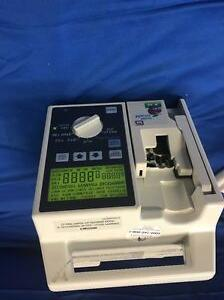plumxl1: (30, 96, 220, 293)
